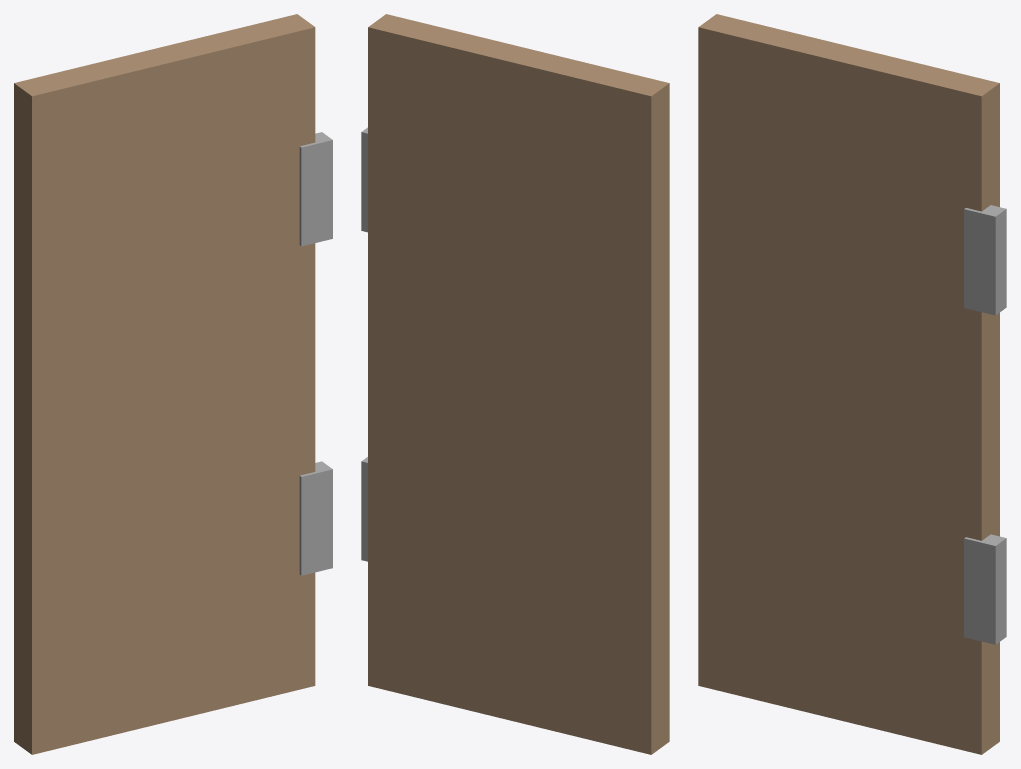
The model's file is door_panels_hinges.glb.
The picture shows the model from 3 angles, left to right: view 1: azimuth 30°, elevation 25°; view 2: azimuth 150°, elevation 25°; view 3: azimuth 330°, elevation 25°; orthographic projection.
Visible parts, largest first — view 1: door, hinge2, hinge1; view 2: door, hinge1, hinge2; view 3: door, hinge2, hinge1.
Boxes of the visible parts, x1,y1,x2,y2 form: door: (14, 14, 315, 754); hinge2: (299, 461, 332, 575); hinge1: (299, 132, 332, 246); door: (368, 14, 669, 754); hinge1: (361, 127, 367, 232); hinge2: (361, 457, 367, 561); door: (698, 14, 999, 754); hinge2: (964, 534, 1006, 644); hinge1: (964, 205, 1006, 315).
Bounding box in the file's own units: 0.9502 × 2 × 0.1098.
